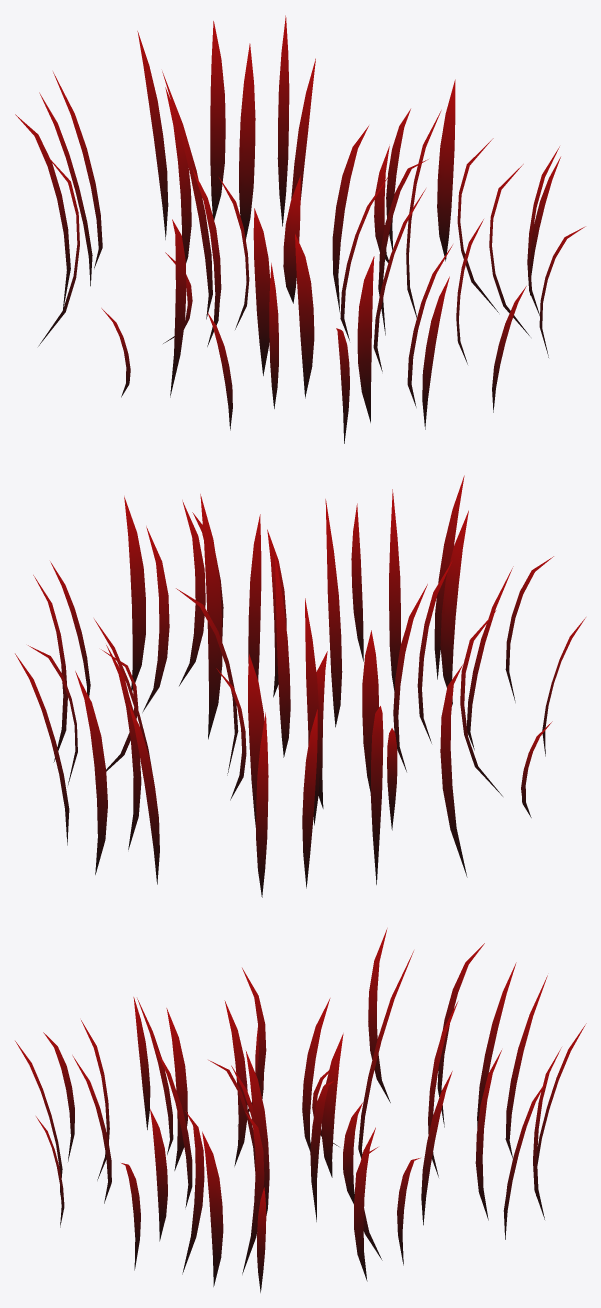
The model's file is grass.fbx.
3 views of the same model, one above another, from view 1: azimuth 30°, elevation 25°; view 2: azimuth 150°, elevation 25°; view 3: azimuth 270°, elevation 25° (orthographic). The views are drawn at different scales.
Visible parts, largest first — view 1: grass; view 2: grass; view 3: grass.
Part boxes in pixels (x1,y1,x2,y2): grass: (15,15,585,443); grass: (15,475,585,897); grass: (15,928,586,1292).
Bounding box in the file's own units: 2.85 × 1.39 × 3.32.
